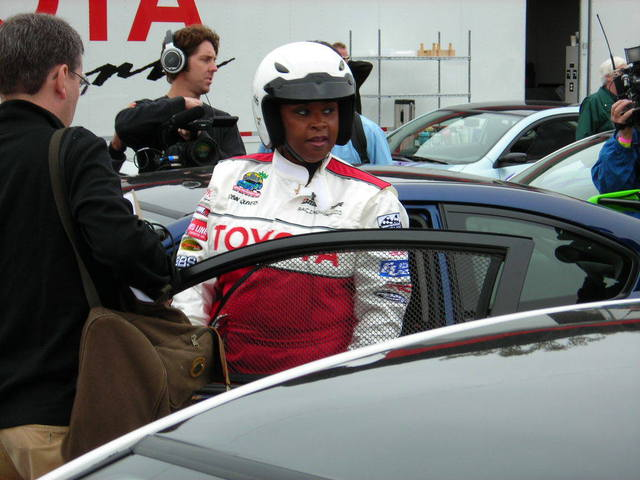helmet: (243, 39, 363, 144)
